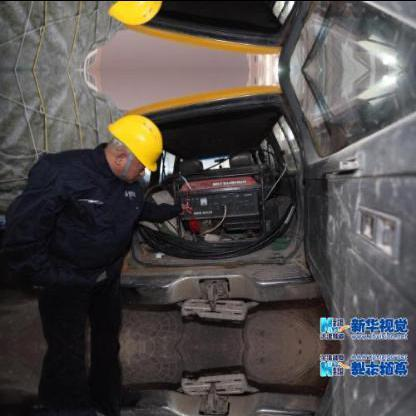Helmet: (94, 107, 167, 183), (94, 0, 168, 30)
